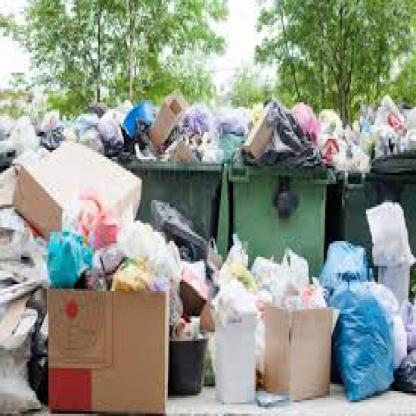Garbage: (46, 100, 414, 162), (1, 109, 47, 414), (333, 280, 389, 410), (0, 304, 44, 410), (184, 257, 235, 325), (362, 209, 414, 268), (385, 282, 410, 385), (212, 282, 265, 325), (50, 236, 85, 294), (275, 270, 324, 310), (122, 252, 158, 305), (178, 100, 218, 141), (95, 109, 142, 141), (268, 107, 304, 148), (375, 93, 404, 139), (169, 295, 200, 332), (7, 114, 36, 144), (227, 223, 250, 259), (292, 95, 321, 123), (62, 104, 88, 134), (275, 245, 294, 286), (118, 109, 160, 123), (324, 127, 342, 148)
